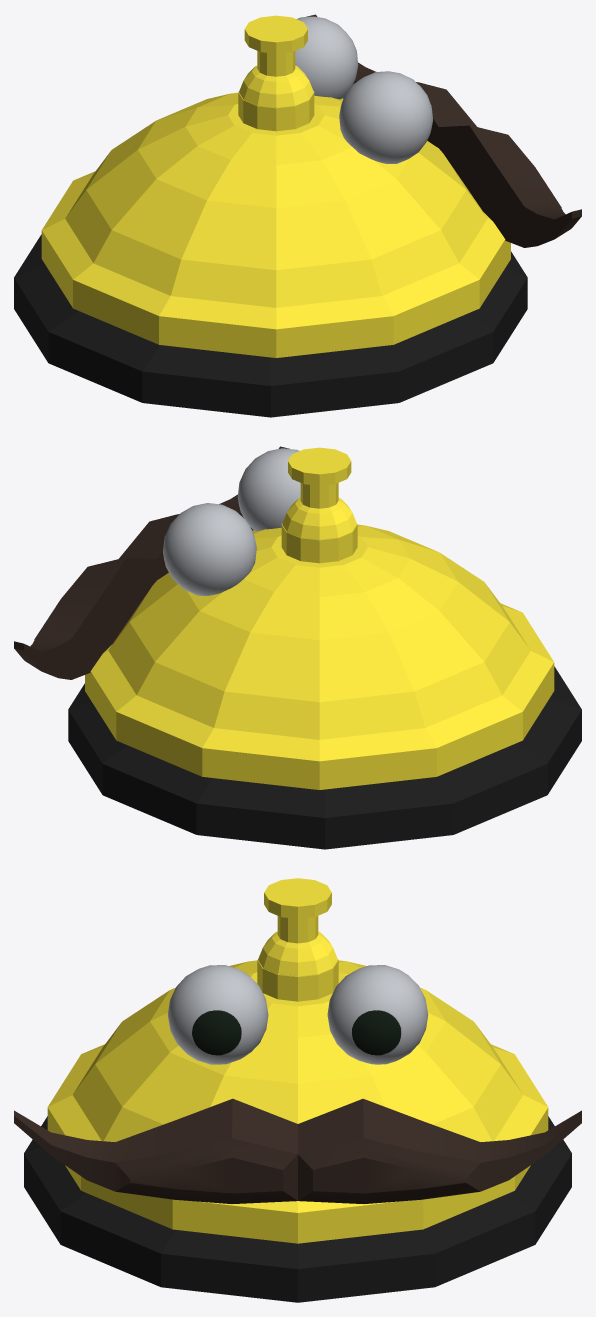
File: Bell (1).glb
3 renders of one model, top to bottom at view 1: azimuth 30°, elevation 25°; view 2: azimuth 150°, elevation 25°; view 3: azimuth 270°, elevation 25°, orthographic. The views are drawn at different scales.
Parts seen in each view (by area): view 1: Bell, Mustache, Bell Eyes; view 2: Bell, Mustache, Bell Eyes; view 3: Bell, Mustache, Bell Eyes.
Part boxes in pixels (x1,y1,x2,y2): Bell: (14,15,527,417); Mustache: (306,14,581,247); Bell Eyes: (295,16,432,163); Bell: (68,447,581,849); Mustache: (14,446,289,679); Bell Eyes: (163,448,300,595); Bell: (24,878,571,1302); Mustache: (14,1098,581,1203); Bell Eyes: (167,965,428,1064).
Size of the model in its own units: 1.99 by 1.19 by 2.06.
4 materials, 1 textured.
